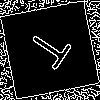T: (25, 25, 81, 77)
